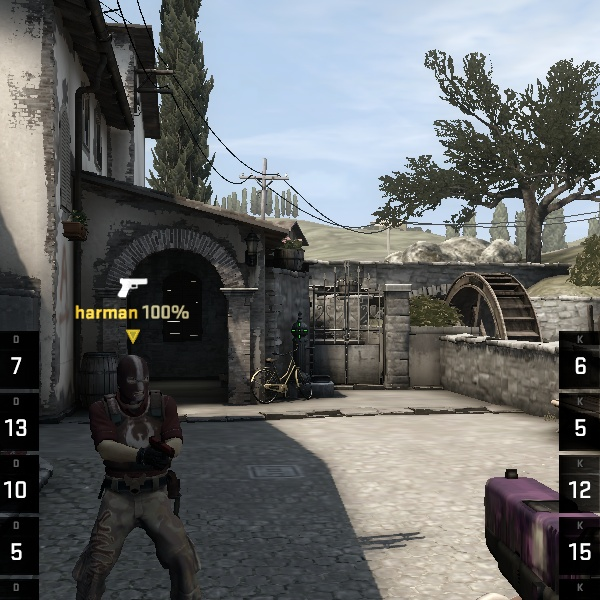t_body: (62, 343, 206, 598)
t_head: (98, 348, 158, 405)
